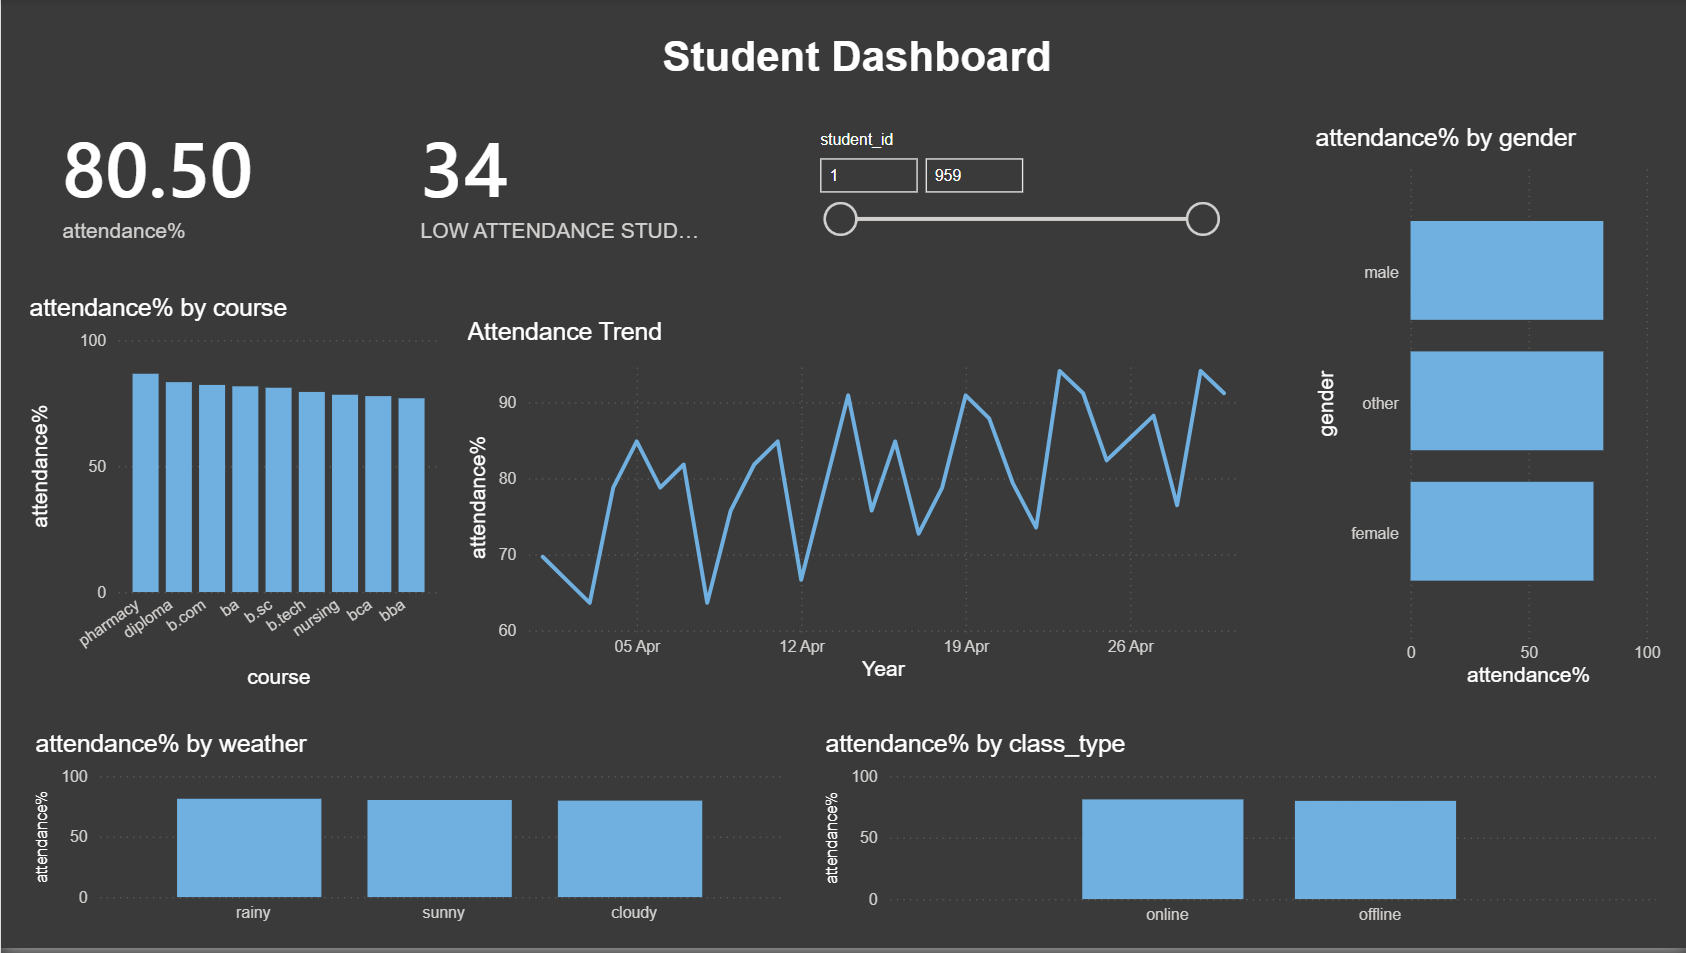

What the dashboard file says about the page in this screenshot:
{"tool":"powerbi","page":{"name":"Student Dashboard","canvas":[1280,720],"ordinal":1},"visuals":[{"type":"cardVisual","fields":{"Data":["Attendance.attendance%"]},"box":[16,64,272,144],"z":0},{"type":"lineChart","title":"Attendance Trend","fields":{"Y":["Attendance.attendance%"],"Category":["Attendance.date.Variation.Date Hierarchy.Year","Attendance.date.Variation.Date Hierarchy.Quarter","Attendance.date.Variation.Date Hierarchy.Month","Attendance.date.Variation.Date Hierarchy.Day"]},"box":[348.3,243.3,601.7,280],"z":1000},{"type":"columnChart","fields":{"Category":["Students.course"],"Y":["Attendance.attendance%"]},"box":[16,224,320,304],"z":2000},{"type":"clusteredBarChart","fields":{"Y":["Attendance.attendance%"],"Category":["Students.gender"]},"box":[992,96,272,432],"z":3000},{"type":"clusteredColumnChart","fields":{"Category":["Attendance.weather"],"Y":["Attendance.attendance%"]},"box":[21.2,555.1,579.3,154.7],"z":4000},{"type":"clusteredColumnChart","fields":{"Y":["Attendance.attendance%"],"Category":["Attendance.class_type"]},"box":[620.3,555.1,640,156.2],"z":5000},{"type":"textbox","box":[348.8,21.2,600.6,60.7],"z":6000},{"type":"slicer","fields":{"Values":["Students.student_id"]},"box":[608,96,336,96],"z":7000},{"type":"cardVisual","fields":{"Data":["Attendance.LOW ATTENDANCE STUDENT"]},"box":[288,64,272,144],"z":8000}]}

Visuals, with their boxes in screenshot pixels (x1, y1, x2, y2), scaled from the page's 1280x720 canvas onto the 1686x953 screenshot:
cardVisual - Attendance.attendance%: left=21, top=85, right=379, bottom=275
"Attendance Trend" lineChart: left=459, top=322, right=1251, bottom=693
columnChart - Students.course x Attendance.attendance%: left=21, top=296, right=443, bottom=699
clusteredBarChart - Attendance.attendance% x Students.gender: left=1307, top=127, right=1665, bottom=699
clusteredColumnChart - Attendance.weather x Attendance.attendance%: left=28, top=735, right=791, bottom=939
clusteredColumnChart - Attendance.attendance% x Attendance.class_type: left=817, top=735, right=1660, bottom=941
textbox: left=459, top=28, right=1251, bottom=108
slicer - Students.student_id: left=801, top=127, right=1243, bottom=254
cardVisual - Attendance.LOW ATTENDANCE STUDENT: left=379, top=85, right=738, bottom=275
